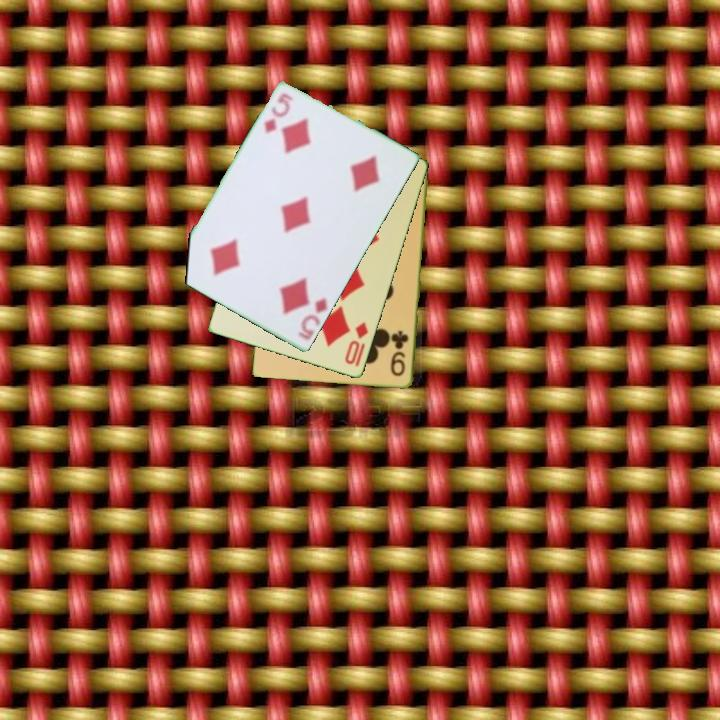10d: (341, 318, 372, 370)
5d: (295, 295, 330, 343), (261, 90, 296, 137)
9c: (388, 327, 412, 380)
